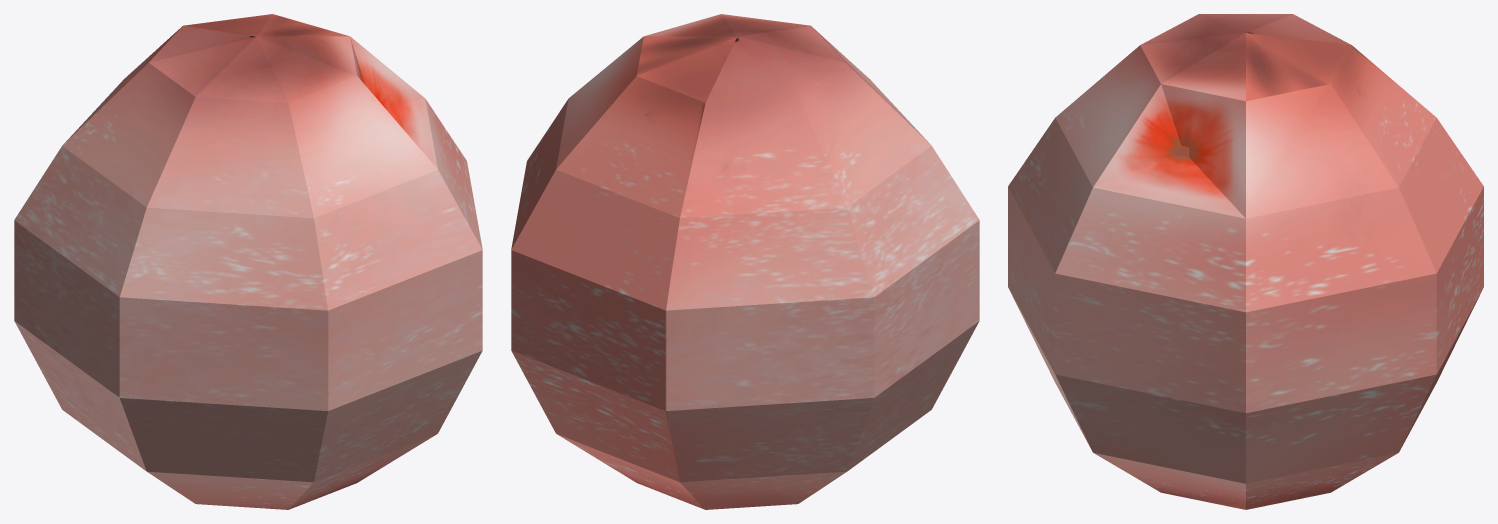
File: makemake 1.fbx
3 views of the same model, side by side, from view 1: azimuth 30°, elevation 25°; view 2: azimuth 150°, elevation 25°; view 3: azimuth 270°, elevation 25° (orthographic).
Parts seen in each view (by area): view 1: pSphere1; view 2: pSphere1; view 3: pSphere1.
Part boxes in pixels (<box>): pSphere1: <box>14,14,482,509</box>; pSphere1: <box>511,14,979,509</box>; pSphere1: <box>1008,14,1483,509</box>.
Bounding box in the file's own units: 5.94 × 6.41 × 6.09.
1 material, 1 textured.
